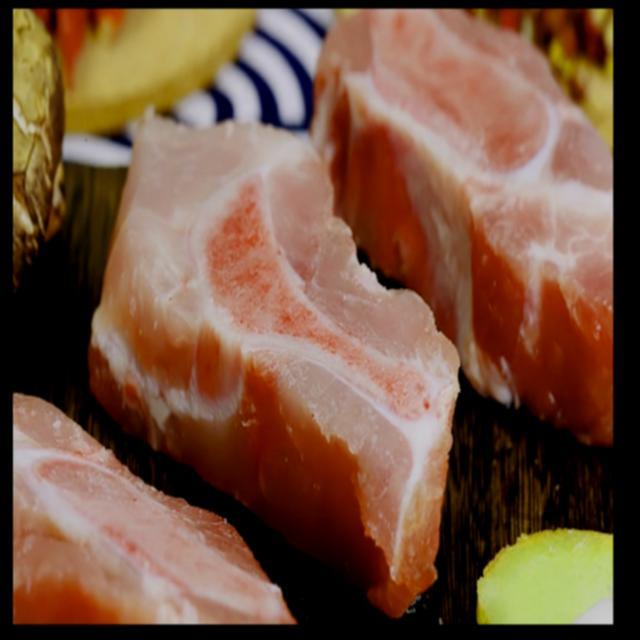pork: (87, 120, 462, 613), (309, 7, 611, 444), (13, 396, 298, 621)
